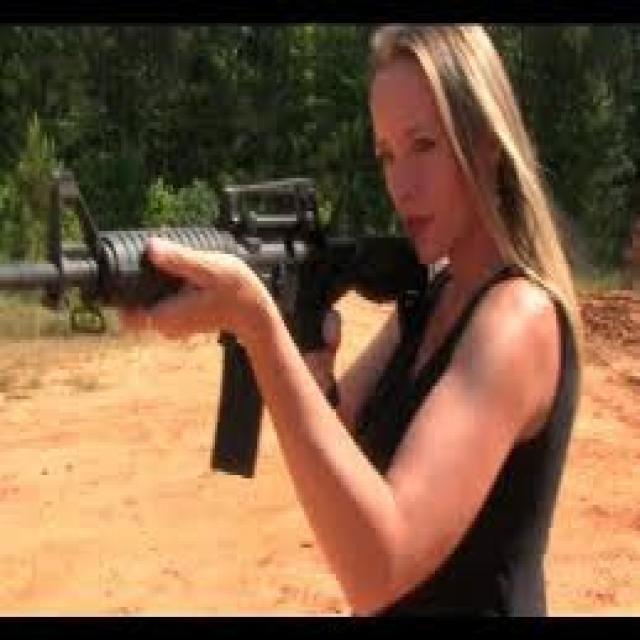gun: (0, 156, 435, 486)
